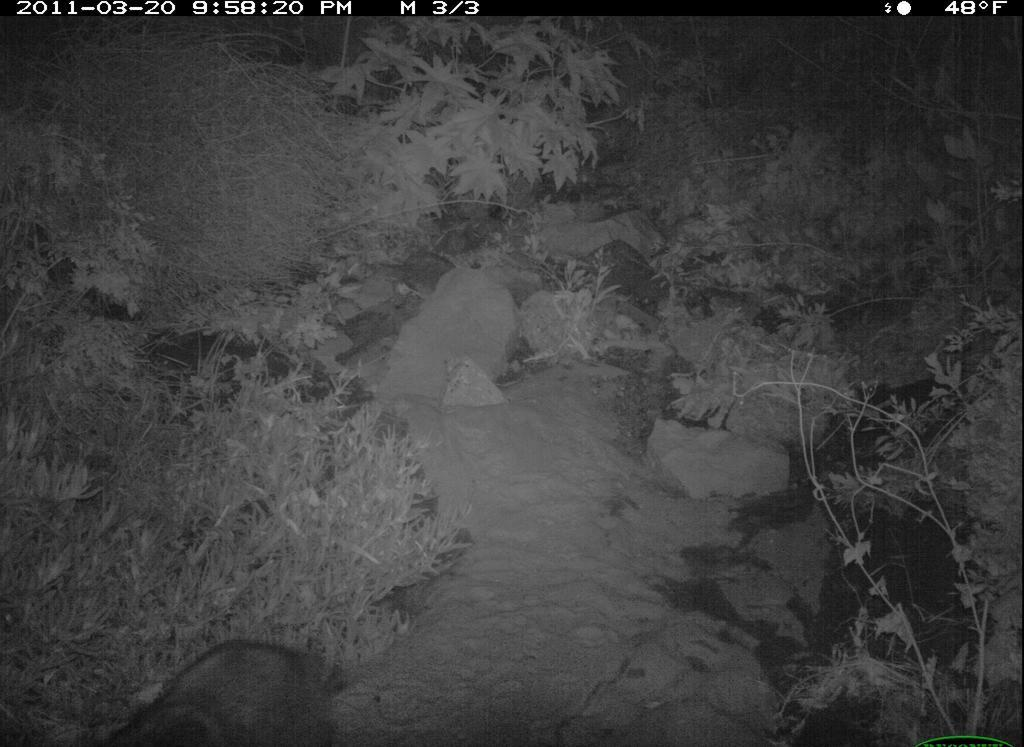raccoon: (98, 638, 355, 745)
